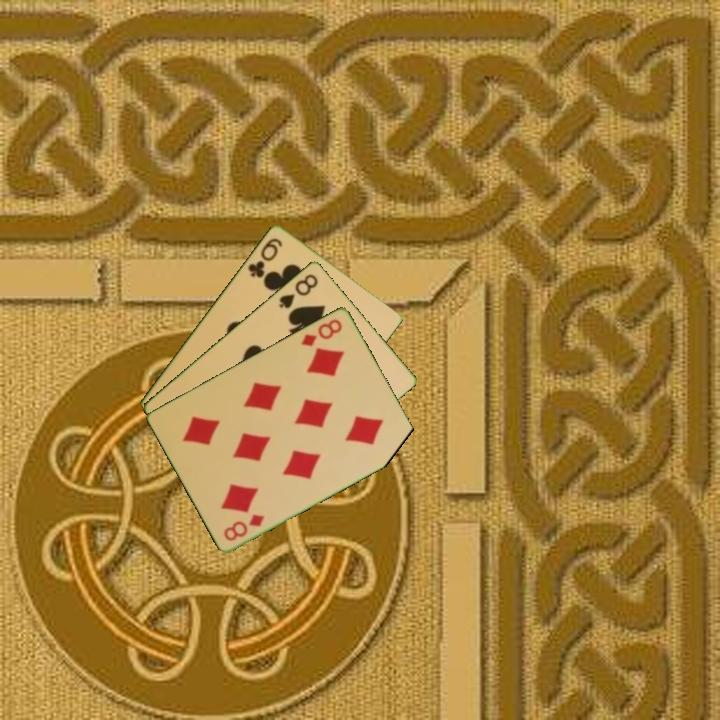6c: (244, 234, 285, 281)
8d: (220, 510, 268, 544), (298, 315, 345, 349)
8s: (275, 270, 321, 311)
